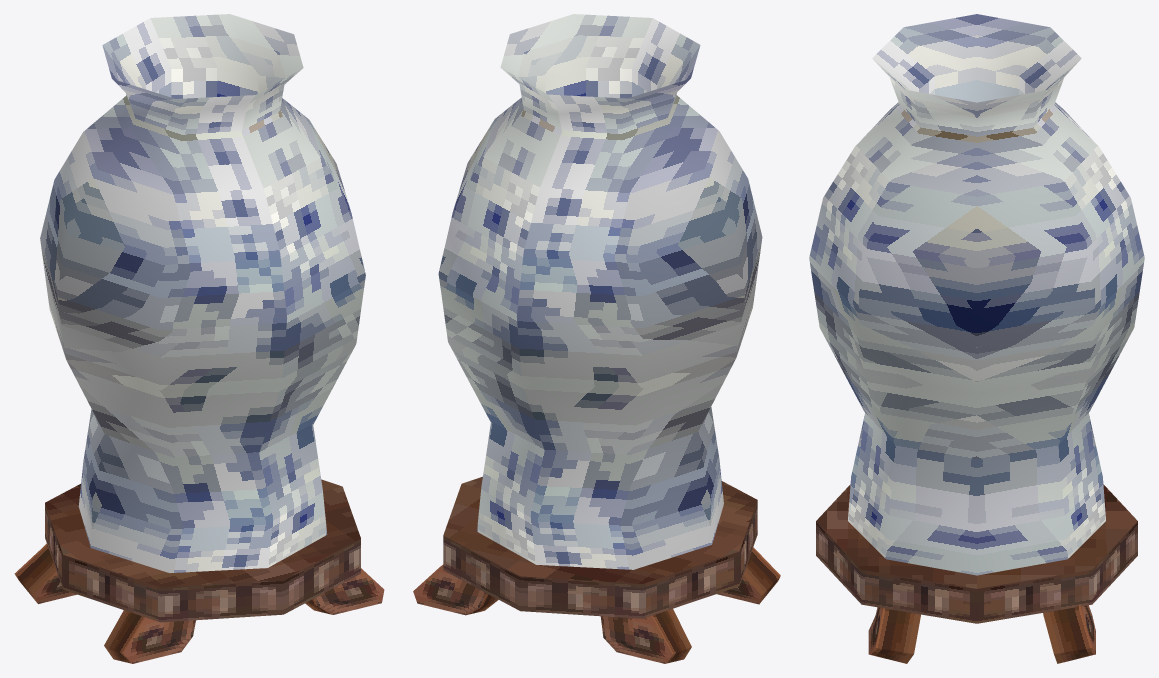
File: oisu4.glb
3 views of the same model, side by side, from view 1: azimuth 30°, elevation 25°; view 2: azimuth 150°, elevation 25°; view 3: azimuth 270°, elevation 25° (orthographic).
Parts seen in each view (by area): view 1: oisu4; view 2: oisu4; view 3: oisu4.
Boxes of the visible parts, x1,y1,x2,y2 form: oisu4: [14, 14, 384, 663]; oisu4: [413, 14, 780, 663]; oisu4: [809, 14, 1144, 663].
Bounding box in the file's own units: 96 × 172 × 96.
Materials: 3 (3 with a texture image).
